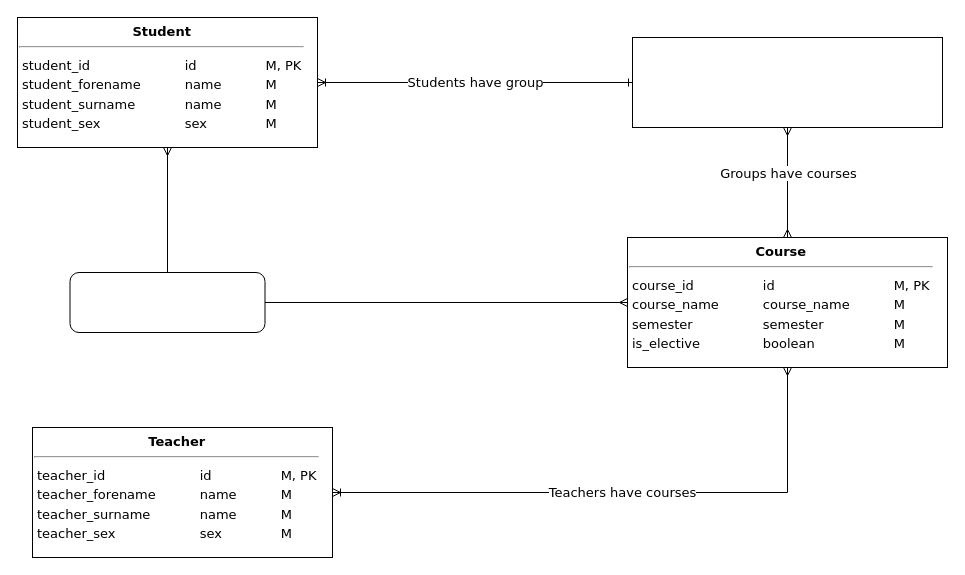
The diagram is 965 pixels wide and 575 high, and some of its shapes have lost their labels. The centre of each missing label's shape, as x and y in pixels:
Group group_id id M, PK group_name group_name M, K1: (787,82)
Mark points points M: (167,302)
